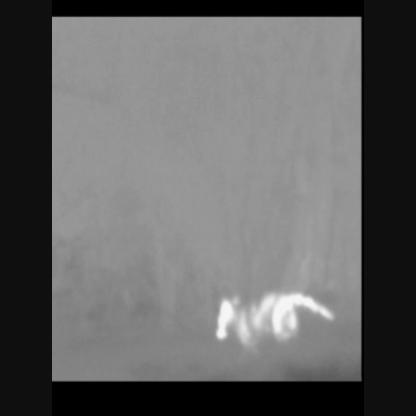rehkitze: (214, 291, 339, 347)
